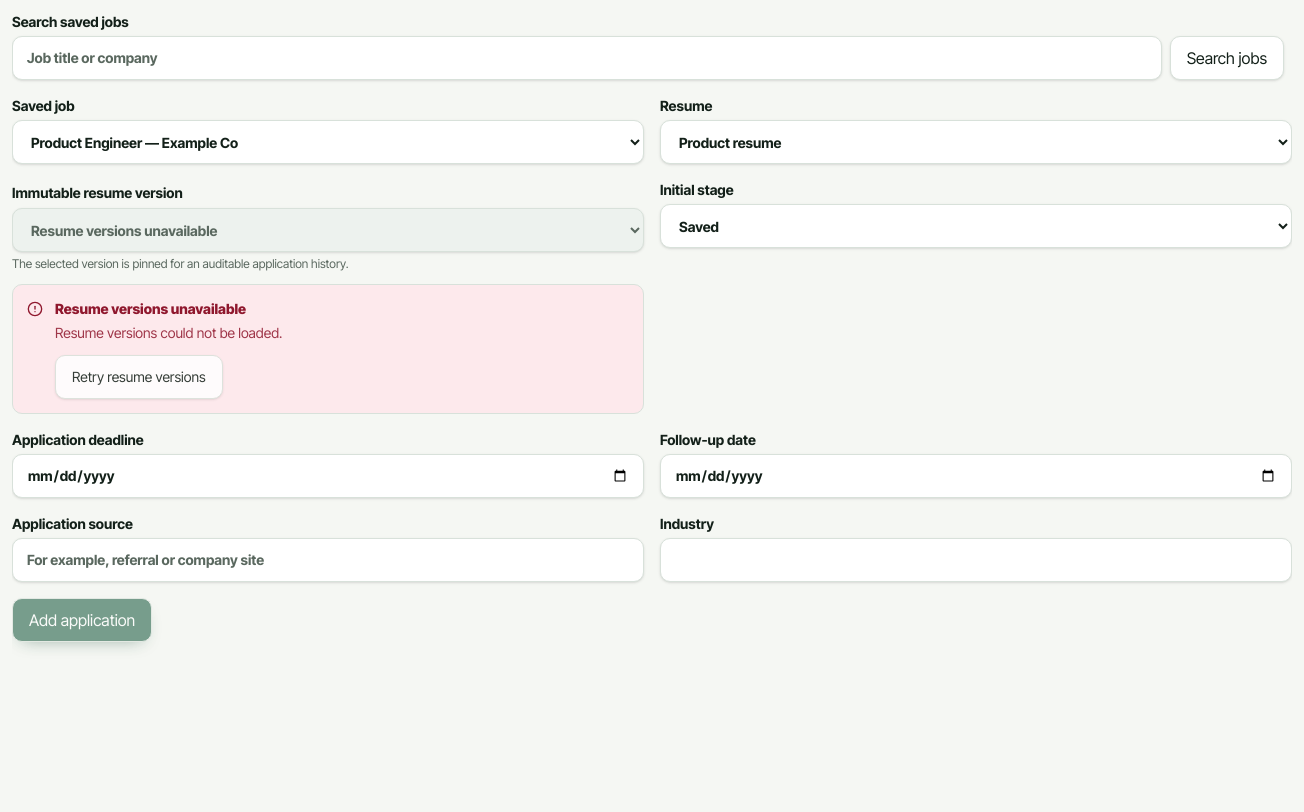
it: Create application form › offers inline retry and an honest empty state for resume versions
Expected: the text "Resume versions unavailable" is shown, [55,300,246,317]
Click the button "Retry resume versions" at (139, 377), box [55,355,223,399]
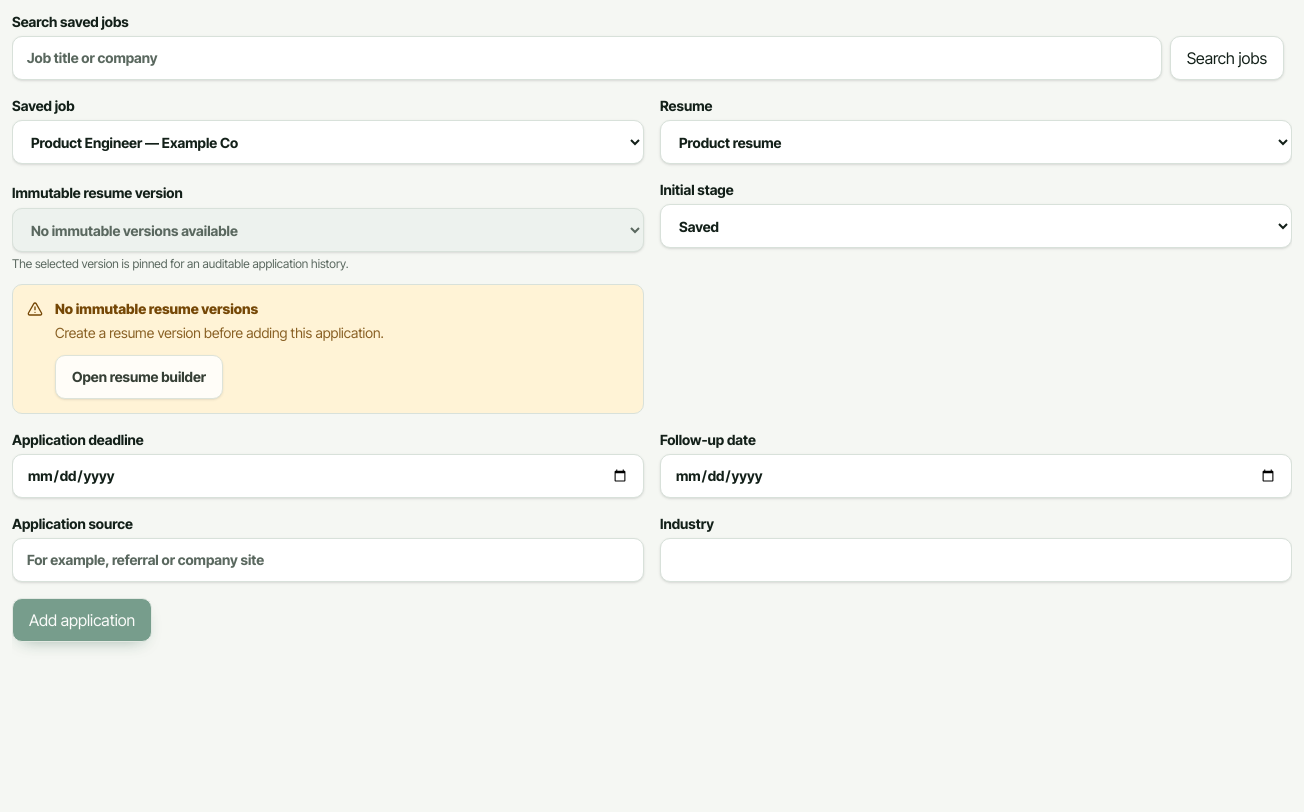
Expected: the button "Add application" is disabled, [12,598,152,642]
Expected: the text "No immutable resume versions" is shown, [55,300,258,317]
